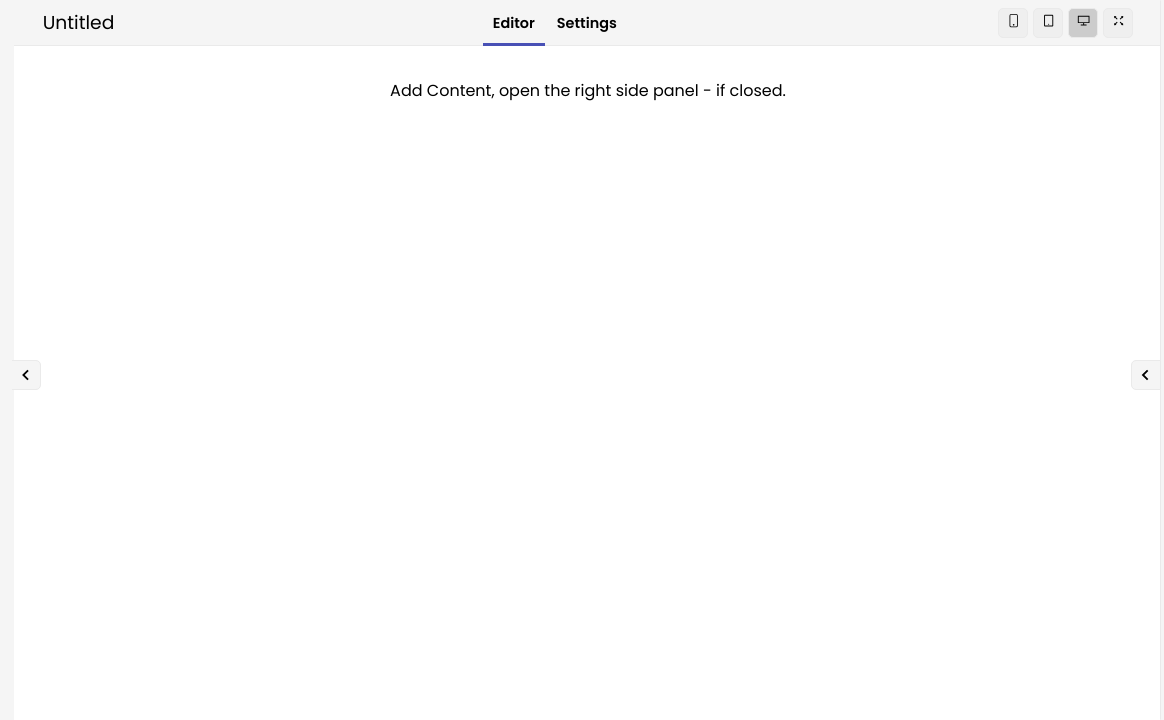
Test: App Test › within the collapsible container, there should be a search box
Click the 3rd button with class "device__preview-button".
click(1083, 22)  # box [1068,8,1098,38]
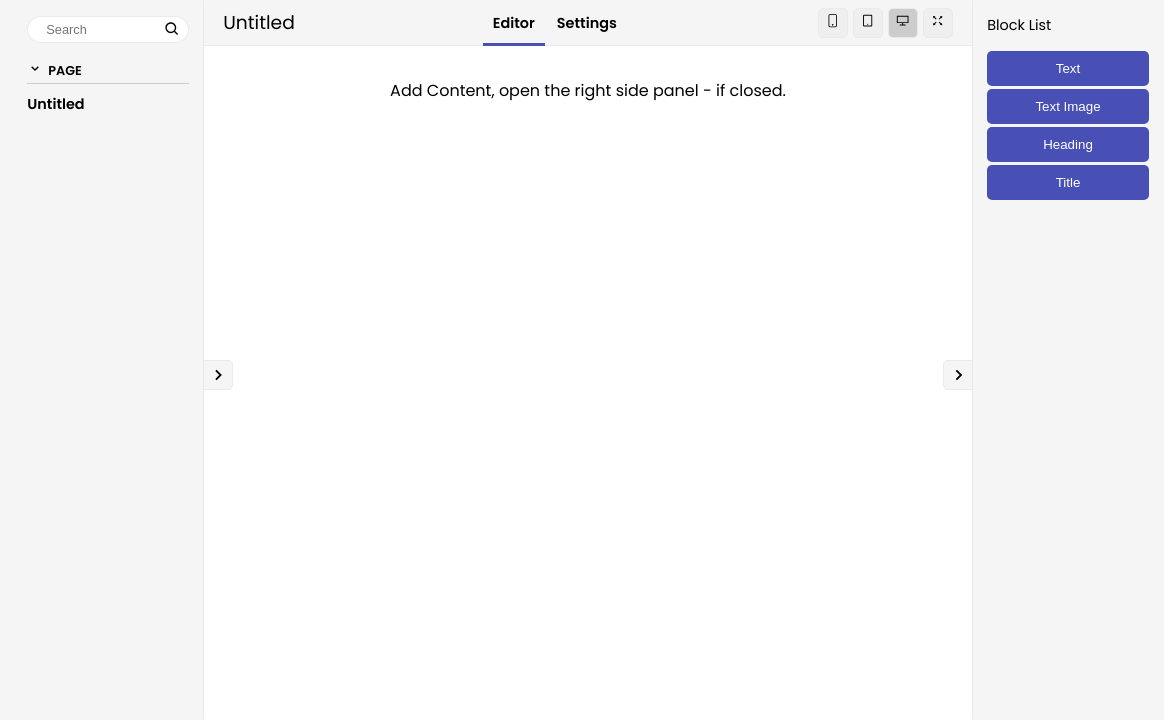
Check: the element with class "searchbox" is shown, box [27,16,189,43]
